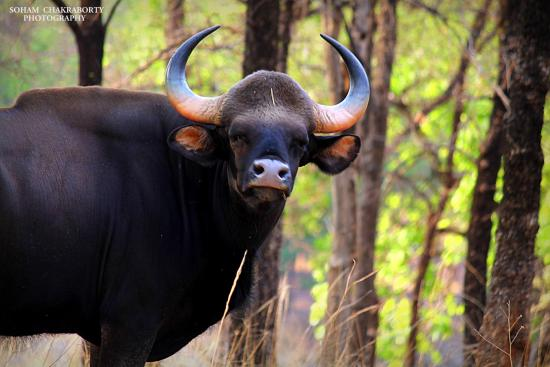bison: (4, 28, 366, 367)
